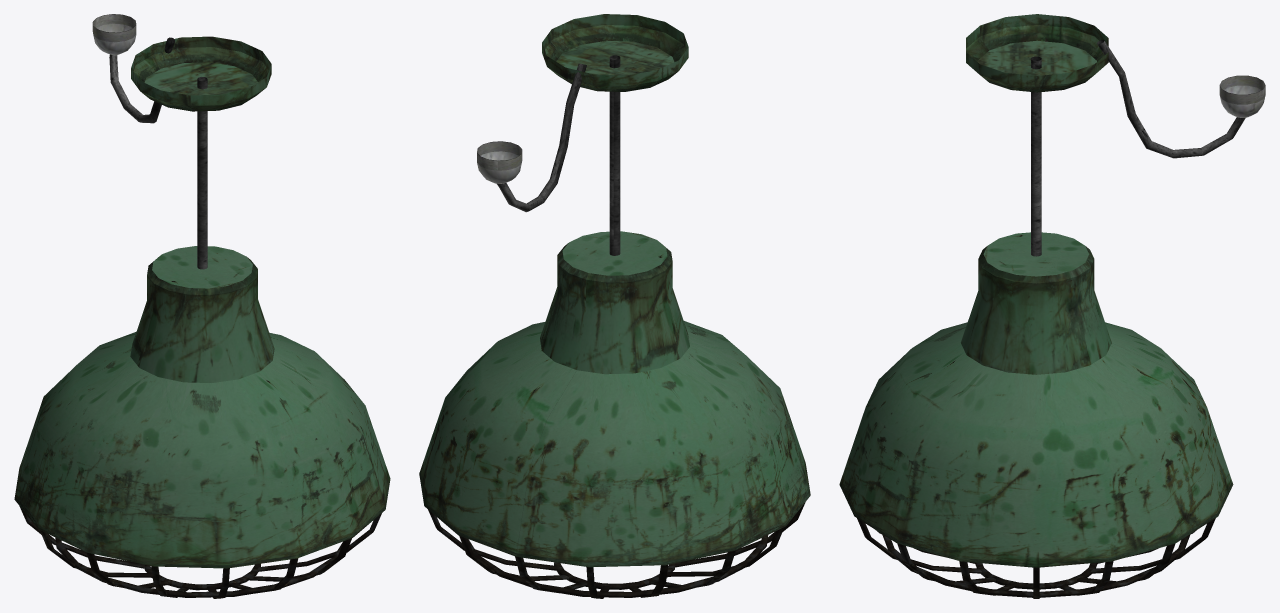
The model's file is Light_hanging.fbx.
3 renders of one model, left to right at view 1: azimuth 30°, elevation 25°; view 2: azimuth 150°, elevation 25°; view 3: azimuth 270°, elevation 25°, orthographic. The views are drawn at different scales.
Parts seen in each view (by area): view 1: Light_hanging; view 2: Light_hanging; view 3: Light_hanging.
Part boxes in pixels (x1,y1,x2,y2): Light_hanging: [14, 14, 390, 598]; Light_hanging: [419, 14, 810, 598]; Light_hanging: [839, 14, 1265, 598].
Size of the model in its own units: 0.6351 by 0.9309 by 0.6871.
